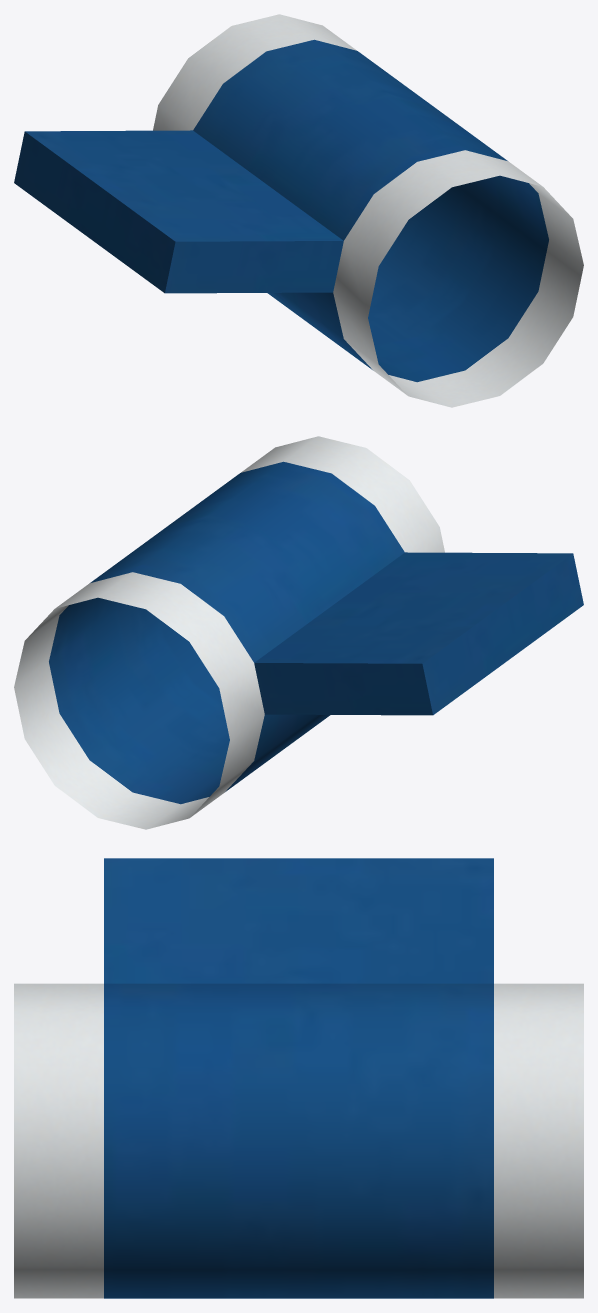
File: SM_冷却水_开关.FBX
3 renders of one model, top to bottom at view 1: azimuth 30°, elevation 25°; view 2: azimuth 150°, elevation 25°; view 3: azimuth 270°, elevation 25°, orthographic. The views are drawn at different scales.
Visible parts, largest first — view 1: SM_冷却水_开关; view 2: SM_冷却水_开关; view 3: SM_冷却水_开关.
Part boxes in pixels (x1=…): SM_冷却水_开关: x1=14, y1=14, x2=583, y2=407; SM_冷却水_开关: x1=14, y1=436, x2=583, y2=829; SM_冷却水_开关: x1=14, y1=858, x2=583, y2=1298.
Bounding box in the file's own units: 0.0202 × 0.0111 × 0.0201.
